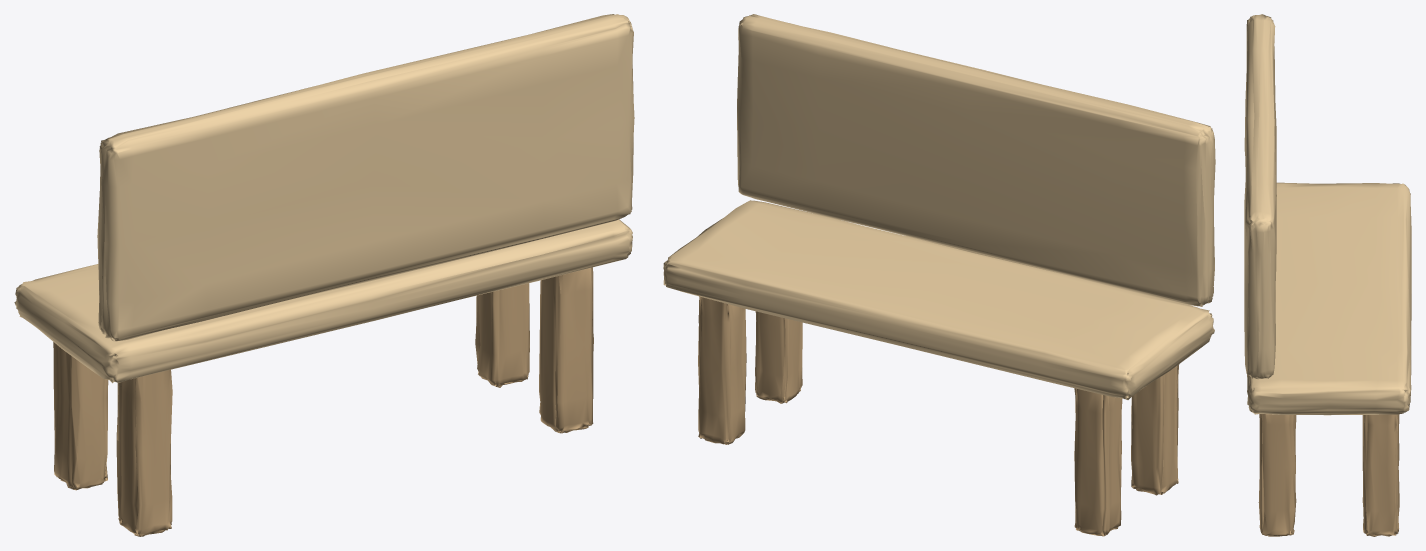
File: bench.glb
The picture shows the model from 3 angles, left to right: view 1: azimuth 30°, elevation 25°; view 2: azimuth 150°, elevation 25°; view 3: azimuth 270°, elevation 25°; orthographic projection. The views are drawn at different scales.
Parts seen in each view (by area): view 1: bench; view 2: bench; view 3: bench.
Boxes of the visible parts, x1=… form: bench: x1=14, y1=14, x2=634, y2=536; bench: x1=663, y1=14, x2=1215, y2=536; bench: x1=1244, y1=14, x2=1411, y2=536.
Bounding box in the file's own units: 1.16 × 0.854 × 0.3891.
